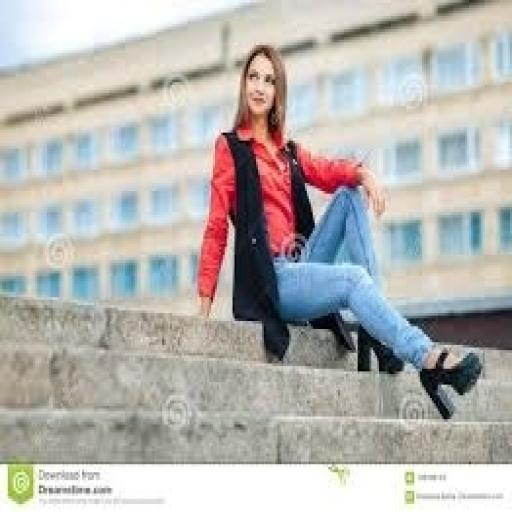sitting: (192, 43, 482, 419)
